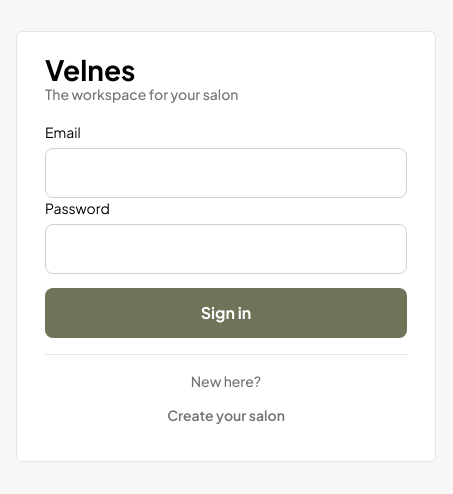
Test: workspace shell › shows the login error for wrong credentials
This screenshot has width=453, height=494.
Type "maria@velnes.mk" into the field labelled "Email". click: (226, 172)
box: [45, 148, 407, 198]
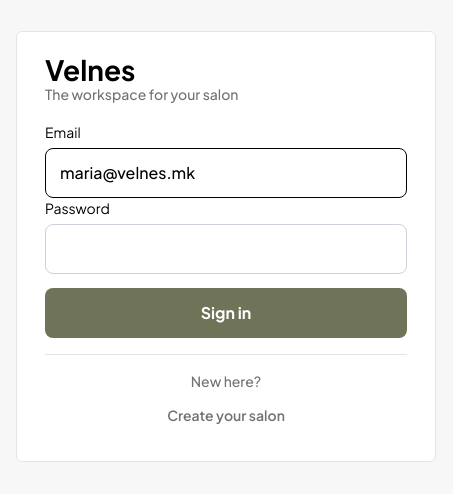
Type "nope" into the password field labelled "Password". click: (226, 248)
box: [45, 224, 407, 274]
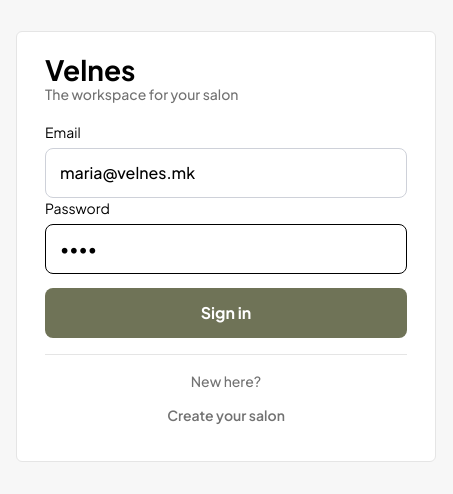
Click the button "Sign in". click: (226, 312)
box: [45, 288, 407, 338]
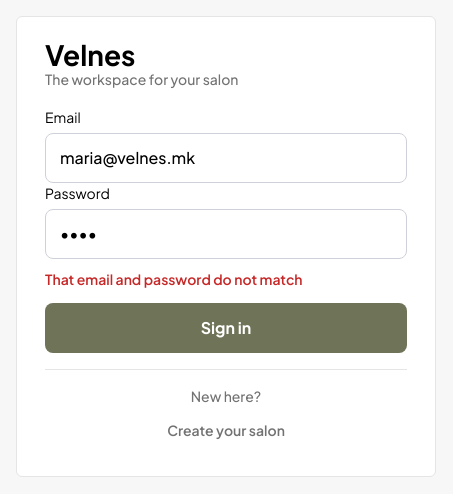
Check: the message reads "That email and password do not match", box [45, 270, 303, 288]
